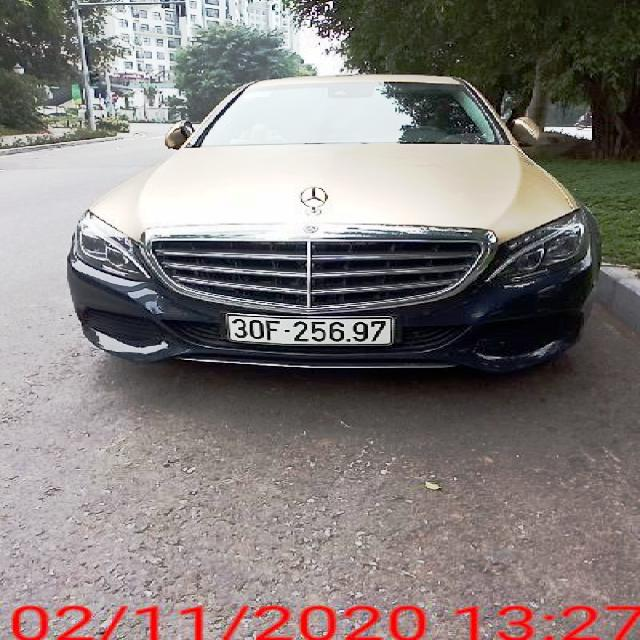license_plate: (232, 314, 399, 345)
